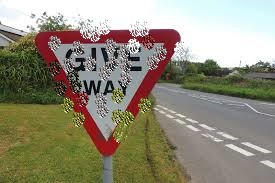giveway: (33, 29, 182, 158), (36, 32, 123, 149), (67, 63, 163, 156), (108, 29, 178, 151), (74, 31, 143, 147), (35, 35, 168, 87)
